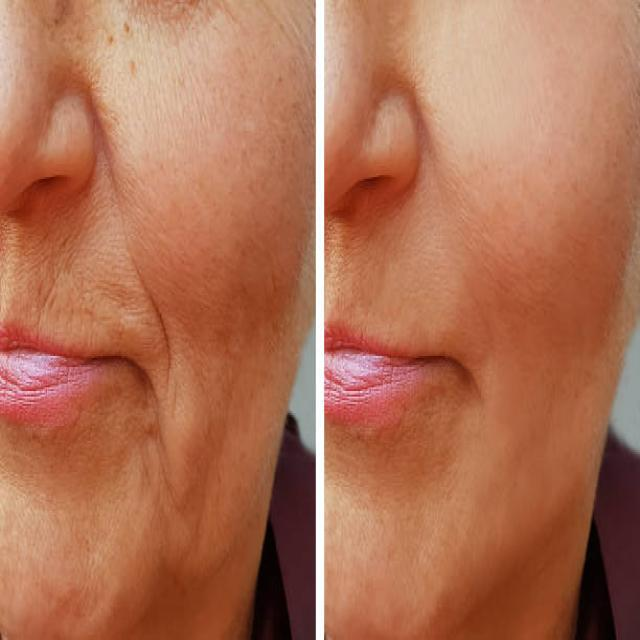Dry-Skin: (108, 34, 300, 451)
